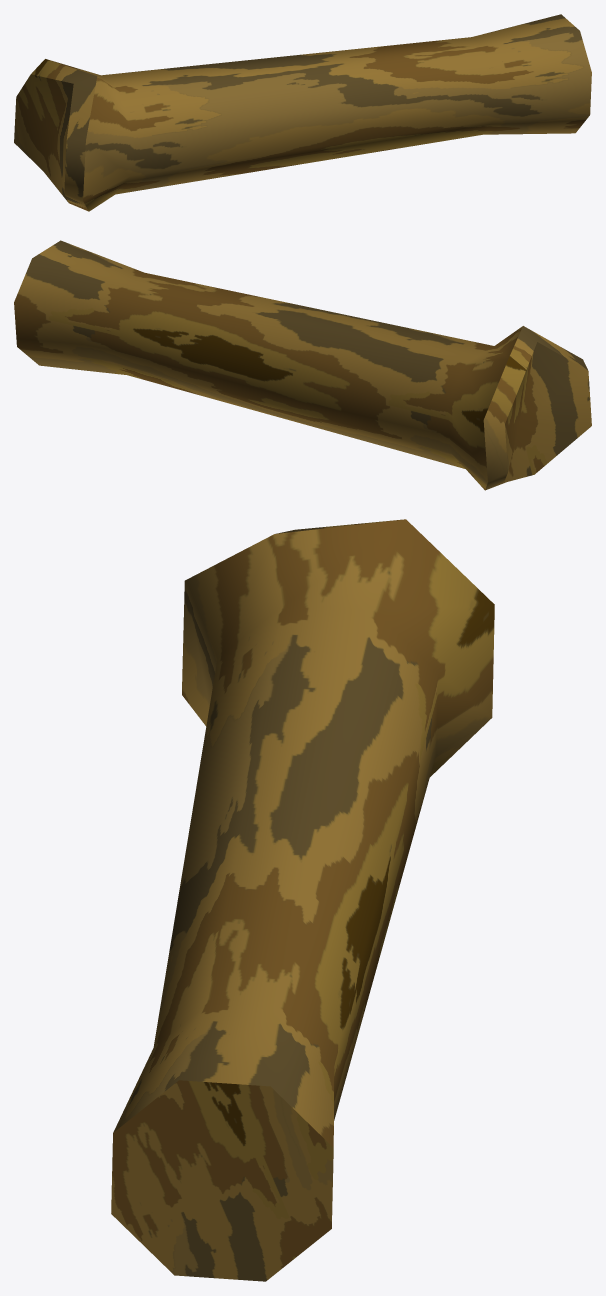
File: wood_fallen 1.fbx
3 renders of one model, top to bottom at view 1: azimuth 30°, elevation 25°; view 2: azimuth 150°, elevation 25°; view 3: azimuth 270°, elevation 25°, orthographic. The views are drawn at different scales.
Visible parts, largest first — view 1: wood_fallen; view 2: wood_fallen; view 3: wood_fallen.
Boxes of the visible parts, box(x1,y1,x2,y2) form: wood_fallen: box(14, 14, 591, 211); wood_fallen: box(14, 240, 591, 490); wood_fallen: box(111, 519, 494, 1281).
Size of the model in its own units: 489 by 137 by 158.
